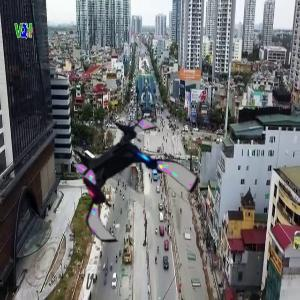drone: (61, 117, 192, 248)
